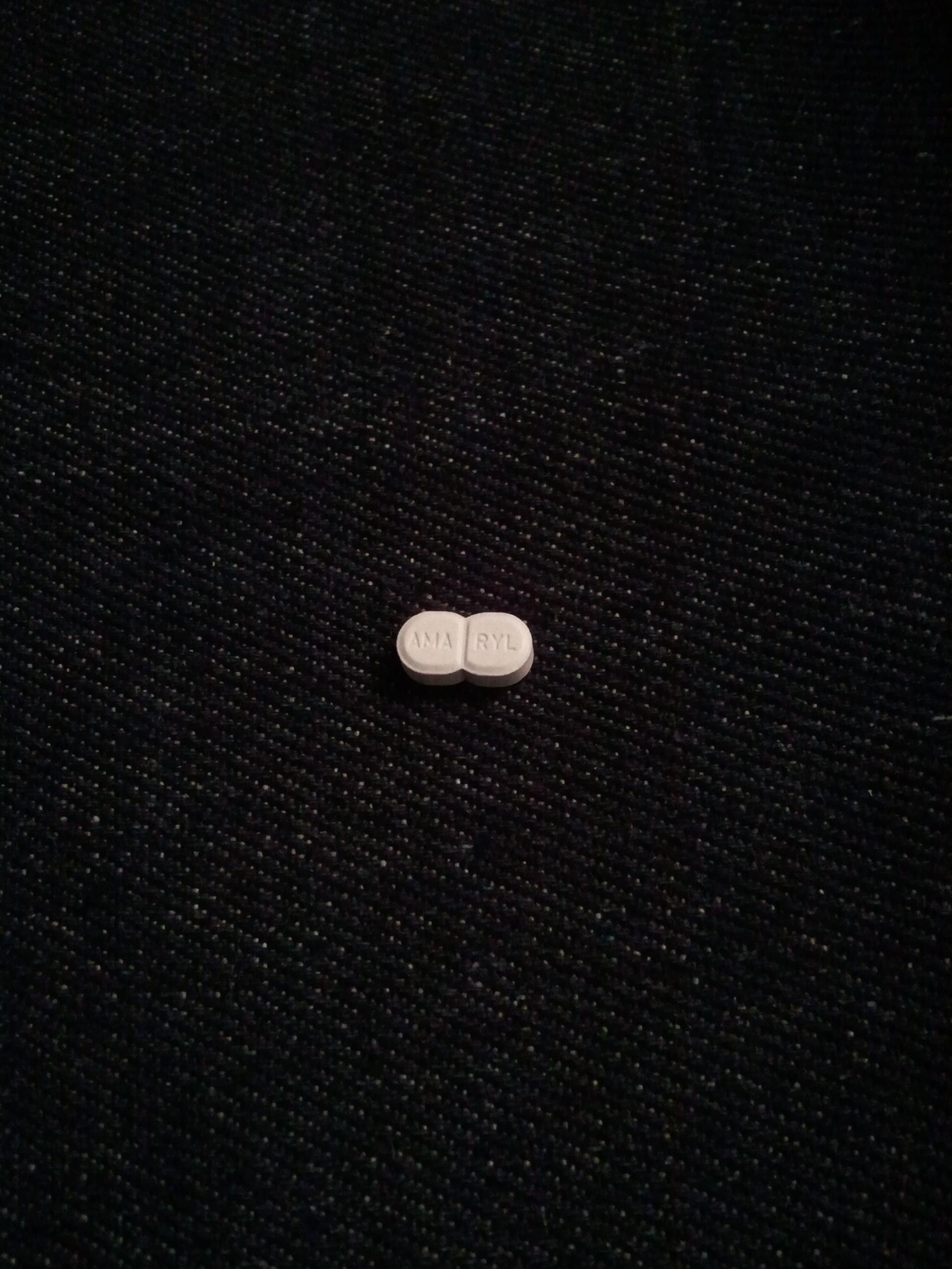Pill: (357, 587, 575, 711)
